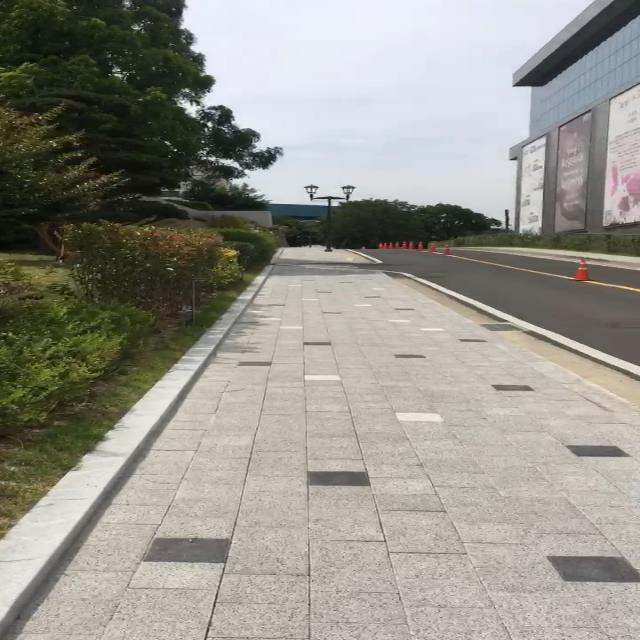obstacle: (563, 255, 593, 283)
road: (350, 248, 640, 404)
sidewalk: (0, 263, 640, 640), (474, 248, 640, 272), (279, 245, 370, 264)
